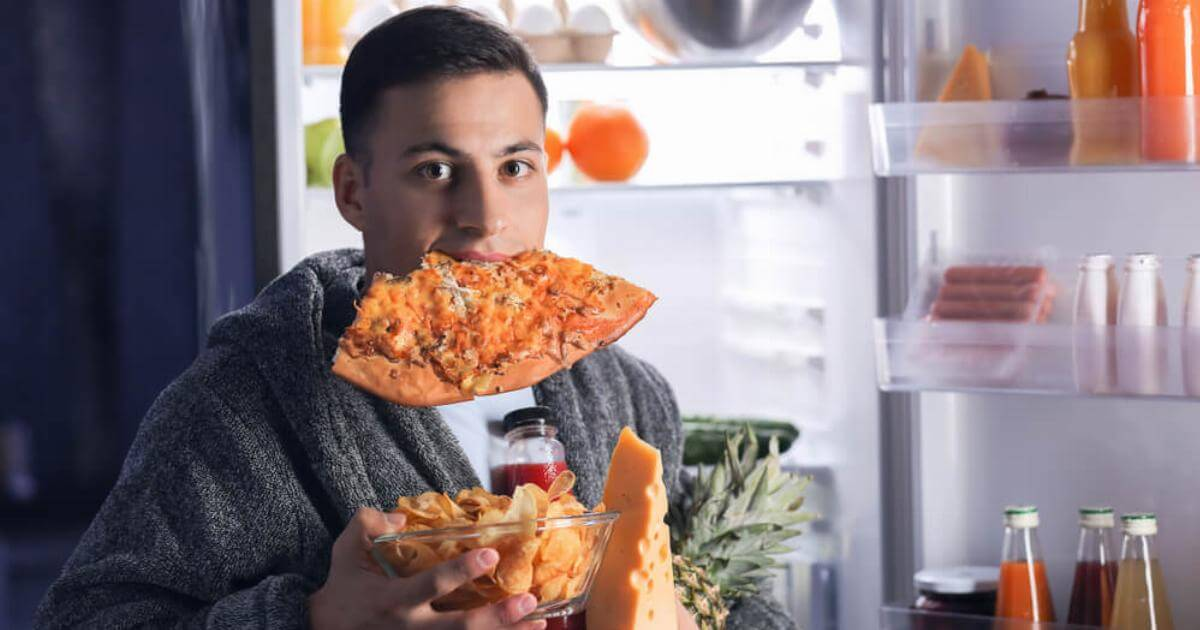without_mask: (375, 118, 540, 317)
